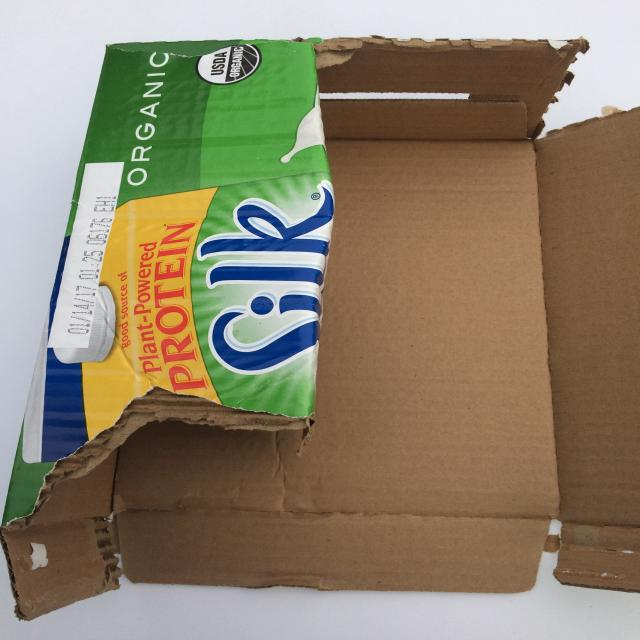cardboard: (3, 35, 637, 620)
